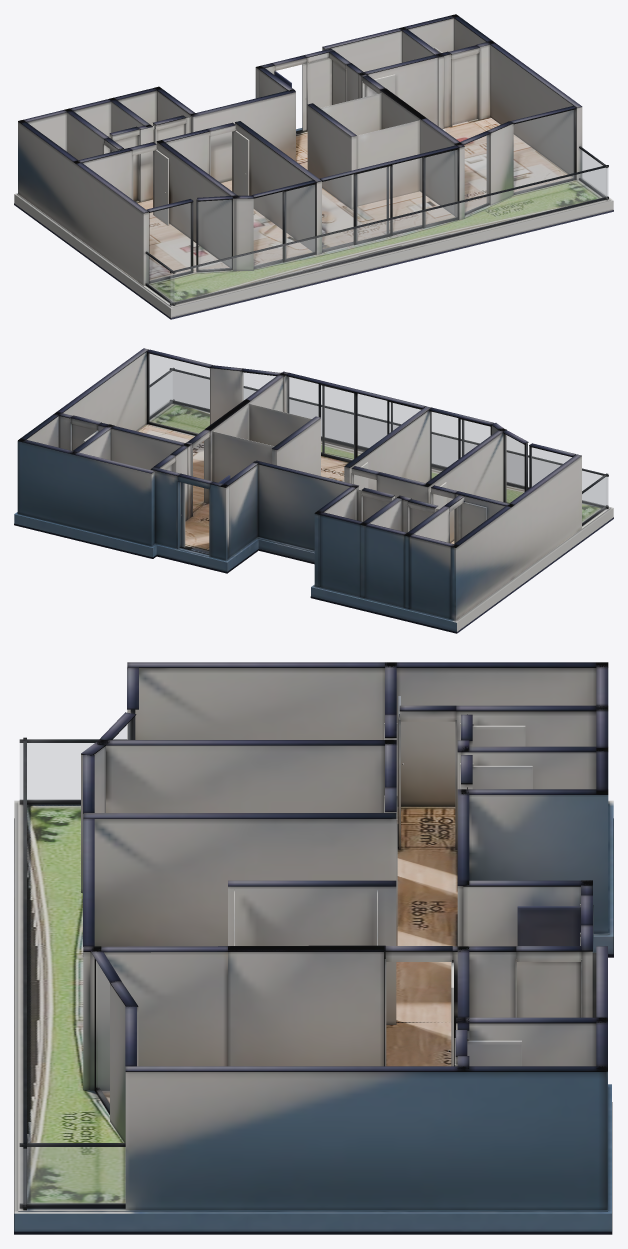
3 renders of one model, top to bottom at view 1: azimuth 30°, elevation 25°; view 2: azimuth 150°, elevation 25°; view 3: azimuth 270°, elevation 25°, orthographic. The views are drawn at different scales.
Visible parts, largest first — view 1: plan, railg2_m, glass3_m, glass5_m, glass2_m, glass0_m, glass1_m, glass4_m, railg1_m, railg0_m; view 2: plan, railg2_m, glass3_m, glass5_m, glass2_m, glass1_m, glass0_m, railg1_m, railg0_m, glass4_m; view 3: plan, railg0_m, railg1_m, glass4_m.
Boxes of the visible parts, bbox=[...] form: plan: bbox=[14, 14, 613, 319]; railg2_m: bbox=[170, 168, 608, 302]; glass3_m: bbox=[322, 150, 457, 249]; glass5_m: bbox=[514, 110, 574, 192]; glass2_m: bbox=[254, 185, 314, 266]; glass0_m: bbox=[149, 203, 190, 280]; glass1_m: bbox=[198, 200, 231, 269]; glass4_m: bbox=[464, 135, 488, 212]; railg1_m: bbox=[146, 254, 174, 303]; railg0_m: bbox=[580, 149, 607, 197]; plan: bbox=[14, 348, 613, 633]; railg2_m: bbox=[173, 371, 608, 506]; glass3_m: bbox=[287, 377, 420, 460]; glass5_m: bbox=[149, 354, 209, 433]; glass2_m: bbox=[430, 411, 490, 479]; glass1_m: bbox=[505, 434, 524, 502]; glass0_m: bbox=[531, 447, 571, 486]; railg1_m: bbox=[582, 477, 606, 523]; railg0_m: bbox=[150, 372, 171, 416]; glass4_m: bbox=[243, 372, 275, 400]; plan: bbox=[14, 662, 613, 1234]; railg0_m: bbox=[20, 1147, 125, 1203]; railg1_m: bbox=[20, 743, 93, 799]; glass4_m: bbox=[97, 963, 109, 1107].
Size of the model in its own units: 14.41 by 2.62 by 8.84.
2 materials, 1 textured.
